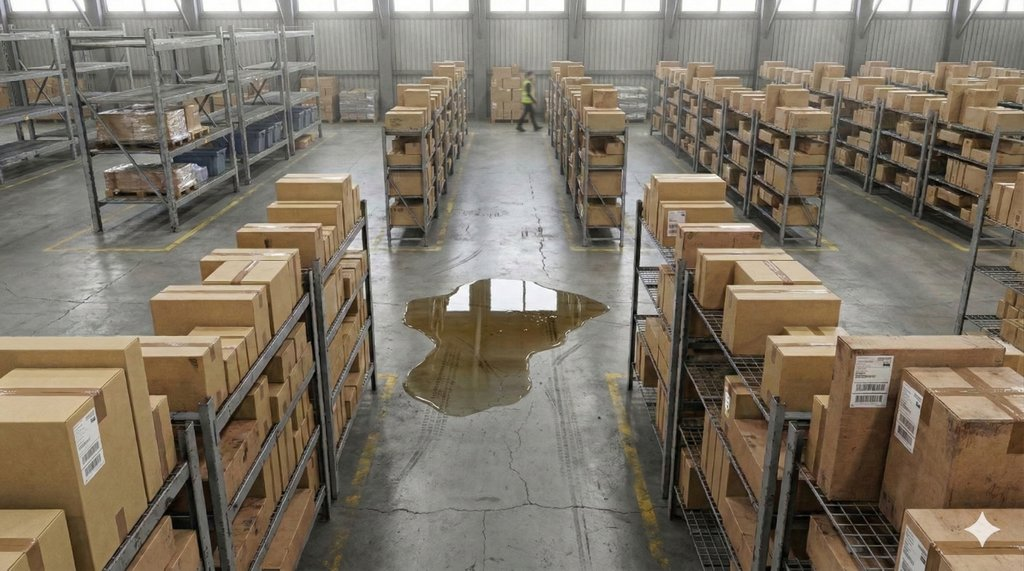empty_shelf: (68, 22, 229, 95), (1, 16, 74, 160), (239, 20, 325, 103)
person: (510, 72, 546, 139)
safety_vest: (519, 81, 542, 113)
spill: (369, 231, 635, 421)
